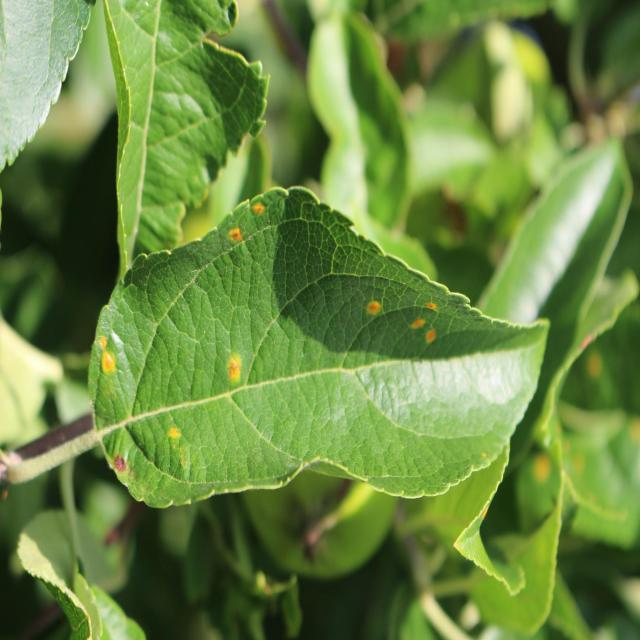Black Rot: (105, 444, 141, 488)
Rust: (355, 276, 387, 323), (227, 339, 246, 396), (89, 353, 122, 385), (418, 290, 449, 322), (82, 325, 118, 352), (249, 193, 273, 230), (159, 417, 183, 448), (405, 303, 426, 338), (224, 220, 245, 252), (421, 326, 440, 360)
